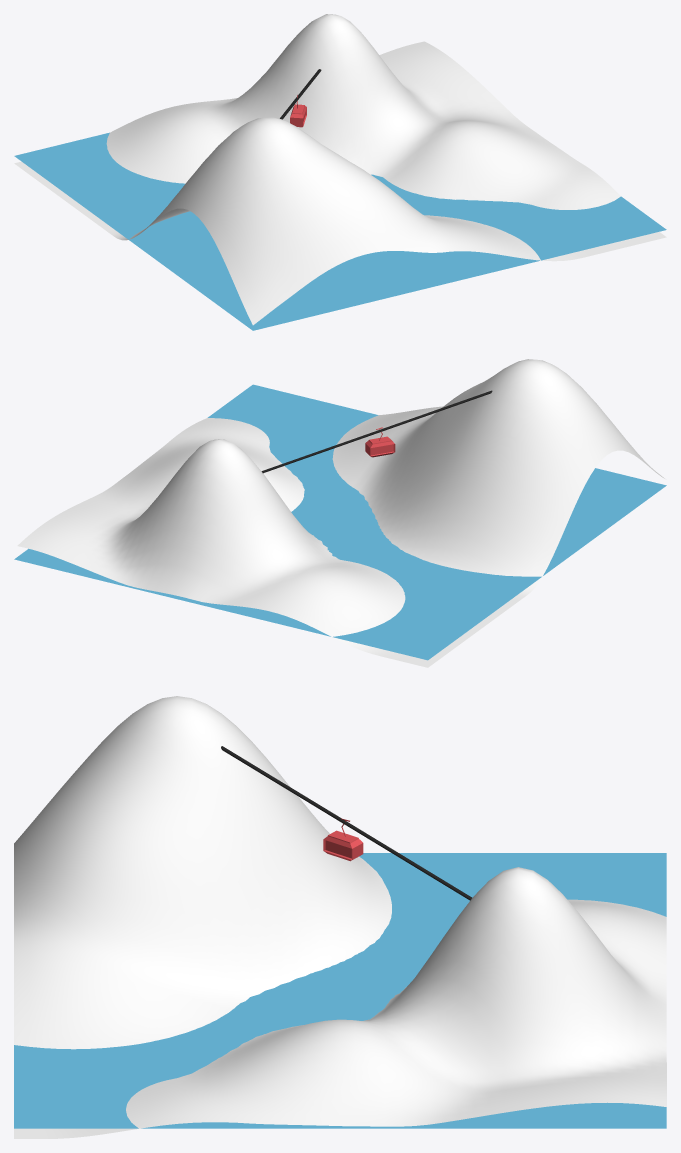
The model's file is valley.gltf.
3 views of the same model, one above another, from view 1: azimuth 30°, elevation 25°; view 2: azimuth 150°, elevation 25°; view 3: azimuth 270°, elevation 25° (orthographic). The views are drawn at different scales.
Parts seen in each view (by area): view 1: Plane, Plane.001; view 2: Plane, Plane.001, Cylinder, Cube; view 3: Plane, Plane.001, Cylinder, Cube.
Part boxes in pixels (left/top/right/bottom): Plane: left=14, top=14, right=666, bottom=325; Plane.001: left=14, top=132, right=666, bottom=330; Plane: left=17, top=359, right=664, bottom=667; Plane.001: left=14, top=384, right=666, bottom=660; Cylinder: left=261, top=390, right=492, bottom=473; Cube: left=365, top=427, right=395, bottom=457; Plane: left=14, top=696, right=666, bottom=1138; Plane.001: left=14, top=853, right=666, bottom=1128; Cylinder: left=221, top=746, right=472, bottom=900; Cube: left=323, top=818, right=363, bottom=861.
Bounding box in the file's own units: 11.05 × 3.98 × 11.05.
